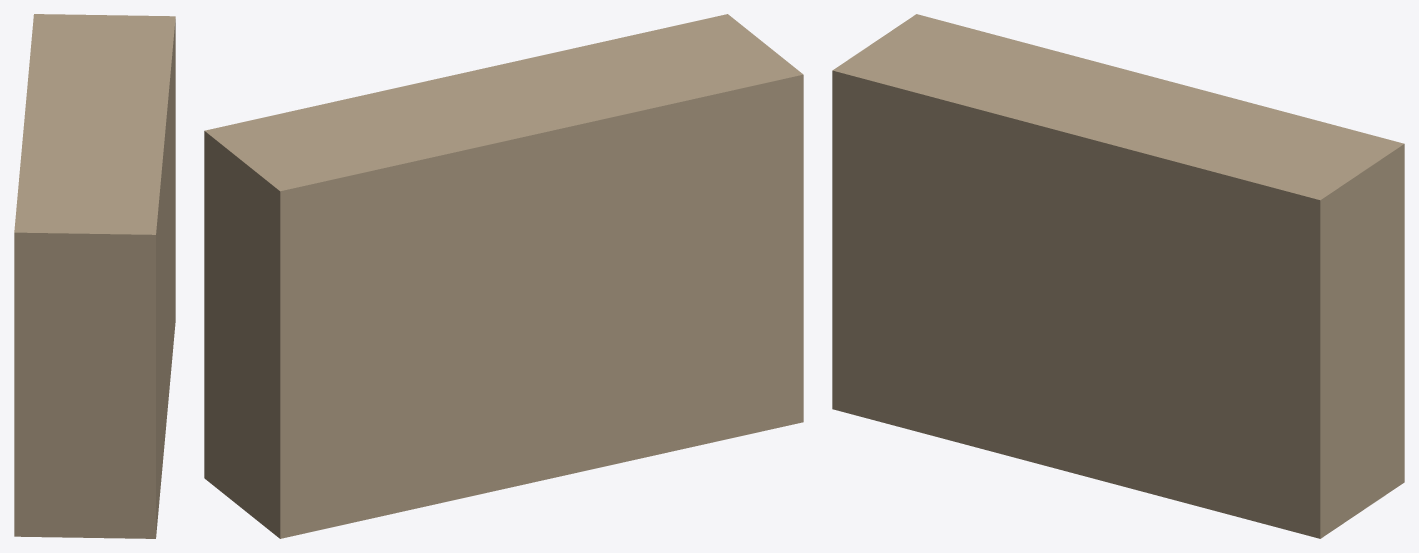
Rendered from bld_100469355.dae.
3 renders of one model, left to right at view 1: azimuth 30°, elevation 25°; view 2: azimuth 150°, elevation 25°; view 3: azimuth 270°, elevation 25°, orthographic. The views are drawn at different scales.
Parts seen in each view (by area): view 1: bld_100469355; view 2: bld_100469355; view 3: bld_100469355.
Boxes of the visible parts, bbox=[...] form: bld_100469355: bbox=[14, 14, 175, 538]; bld_100469355: bbox=[204, 14, 803, 538]; bld_100469355: bbox=[832, 14, 1404, 538].
Size of the model in its own units: 9.44 by 12.25 by 8.
